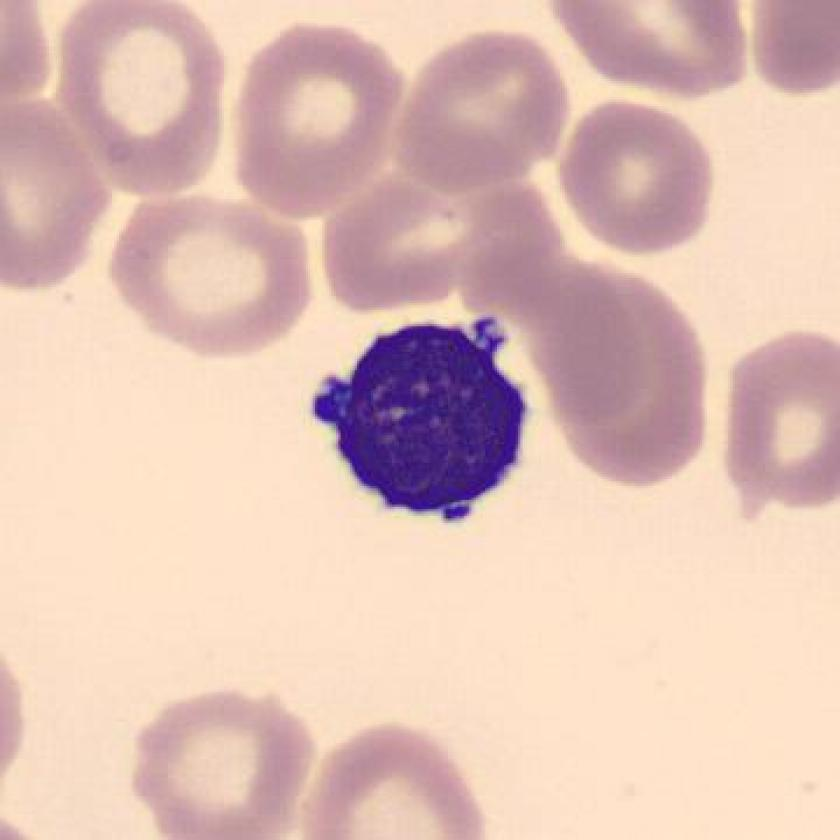lymphocyte: (291, 304, 550, 543)
